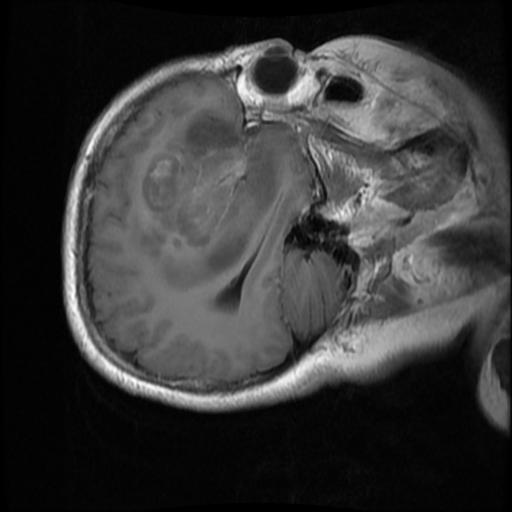glioma: (142, 111, 274, 271)
